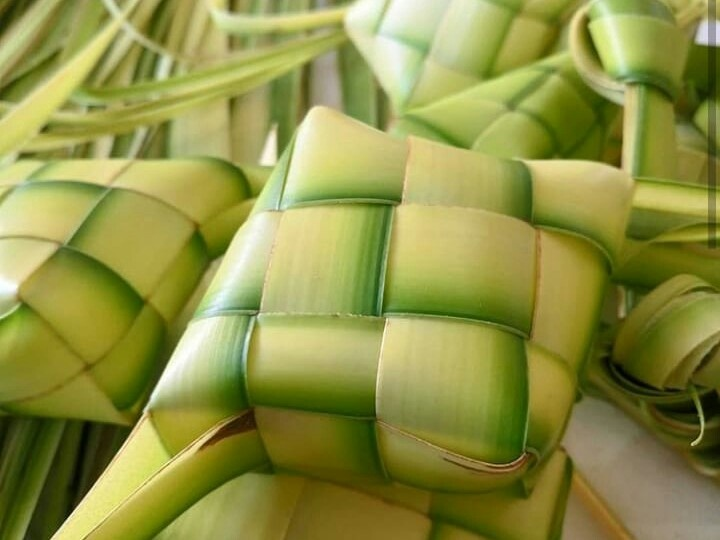ketupat: (144, 106, 635, 497)
